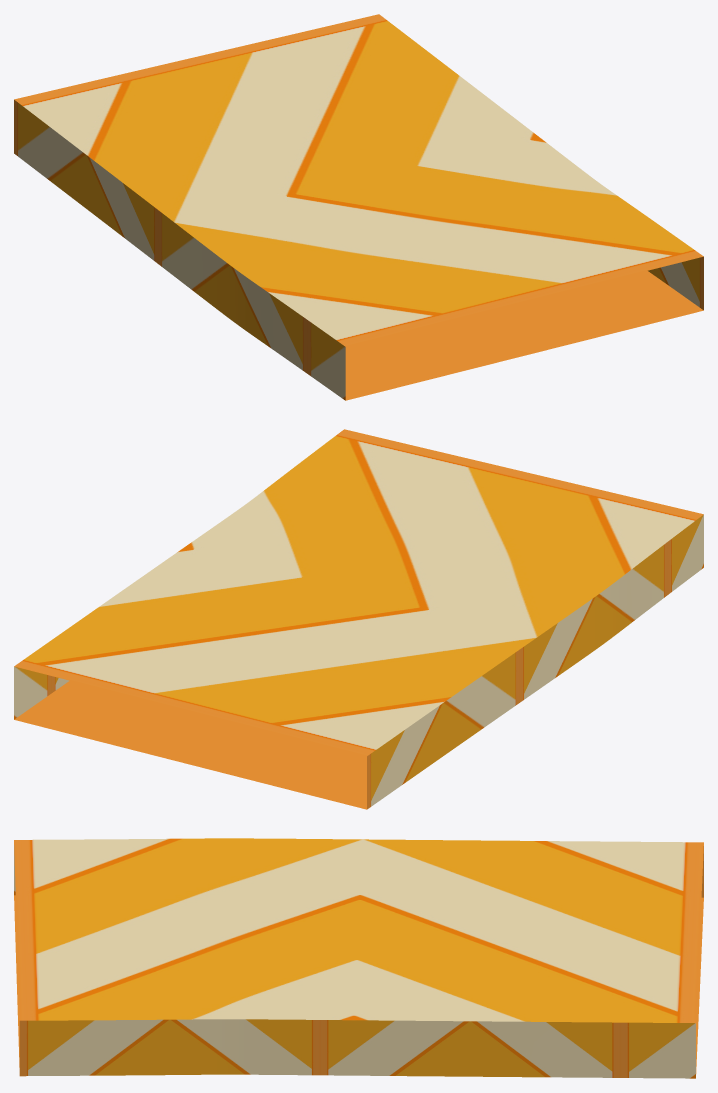
Rendered from Road.fbx.
3 renders of one model, top to bottom at view 1: azimuth 30°, elevation 25°; view 2: azimuth 150°, elevation 25°; view 3: azimuth 270°, elevation 25°, orthographic. The views are drawn at different scales.
Parts seen in each view (by area): view 1: Road; view 2: Road; view 3: Road.
Boxes of the visible parts, bbox=[...] form: Road: bbox=[14, 14, 703, 400]; Road: bbox=[14, 429, 703, 809]; Road: bbox=[14, 838, 703, 1078].
Bounding box in the file's own units: 1430 × 200 × 2257.
1 material, 1 textured.
